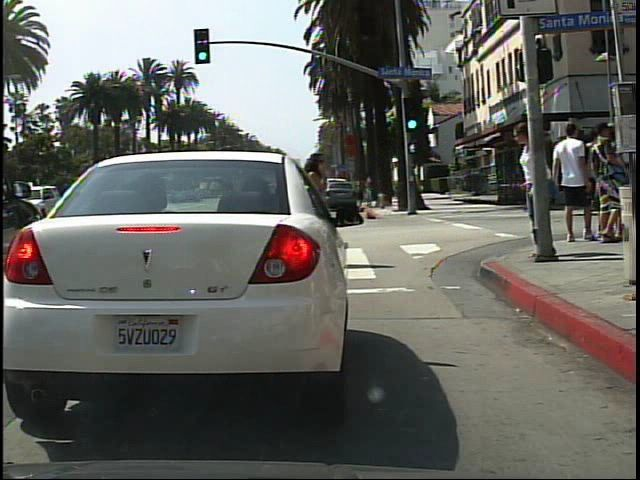person: (521, 123, 565, 265)
